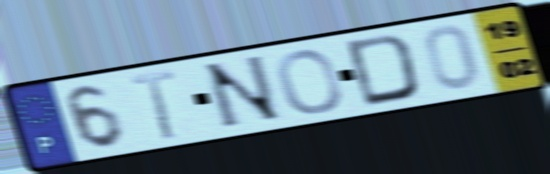0: (420, 22, 485, 94)
6: (63, 82, 128, 151)
D: (343, 32, 424, 110)
N: (200, 52, 288, 134)
O: (274, 47, 346, 116)
T: (125, 67, 180, 144)
